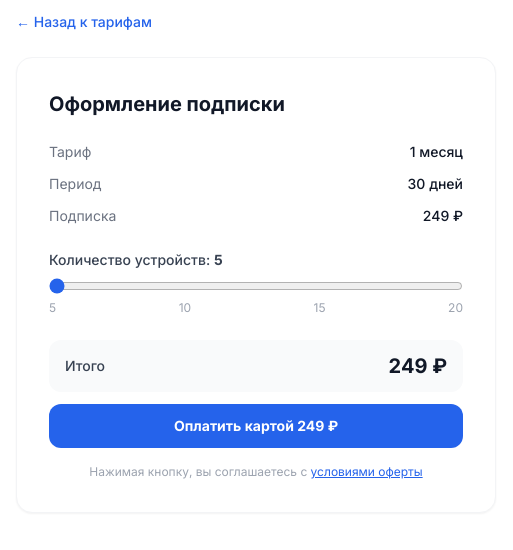
Checkout (payment/[planId]) › updates the total when the device slider increases
Set the slider to "10" at (190, 286), box top-left (49, 278), bottom-right (463, 294)
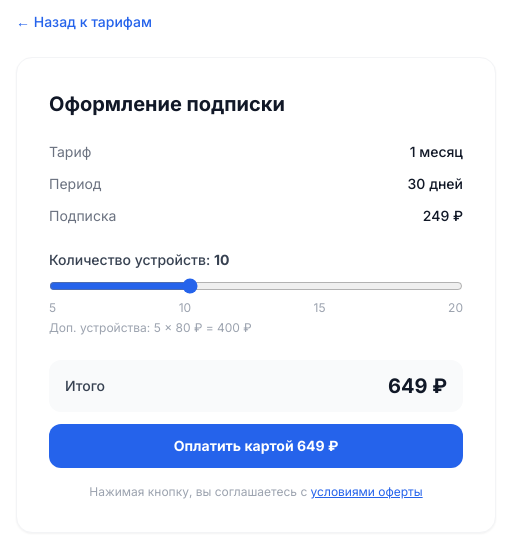
Check: the button "Оплатить картой 649 ₽" is shown, box top-left (49, 424), bottom-right (463, 468)
